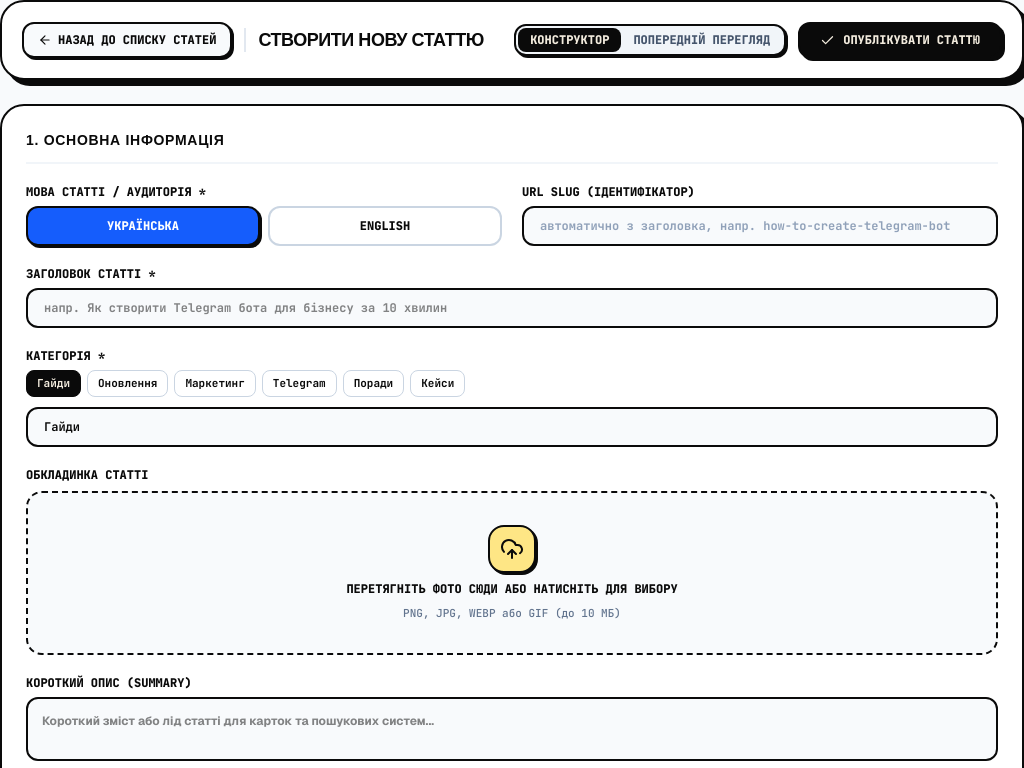
Test case: BlogEditorView › switches between builder and preview tabs
Click the button "Попередній перегляд" at [702, 40], box [621, 28, 782, 52]
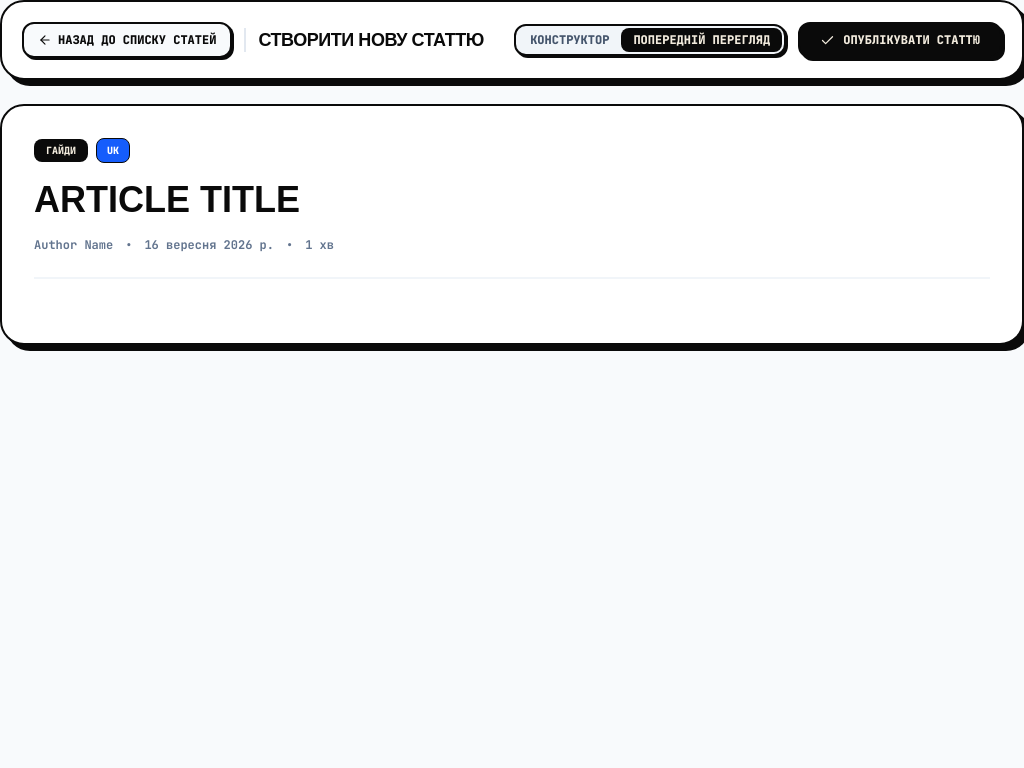
Now the heading "Article Title" is shown, box [34, 179, 300, 220]
Click the button "Конструктор" at [570, 40], box [518, 28, 621, 52]
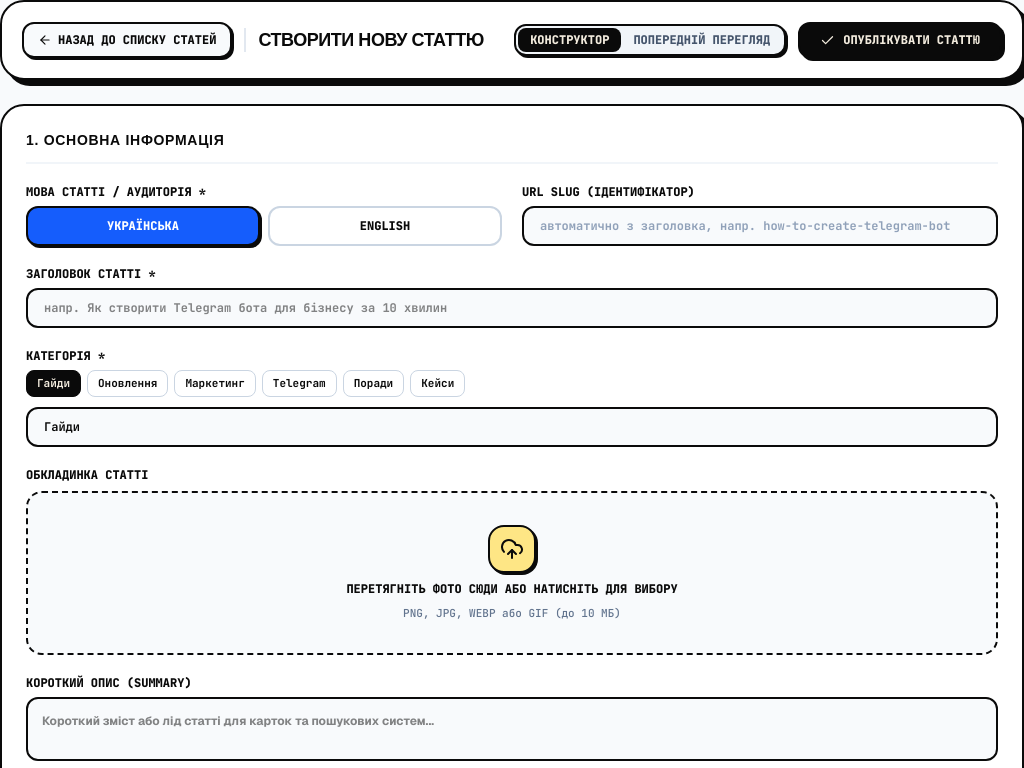
Now the heading "1. Основна інформація" is shown, box [26, 130, 998, 164]
